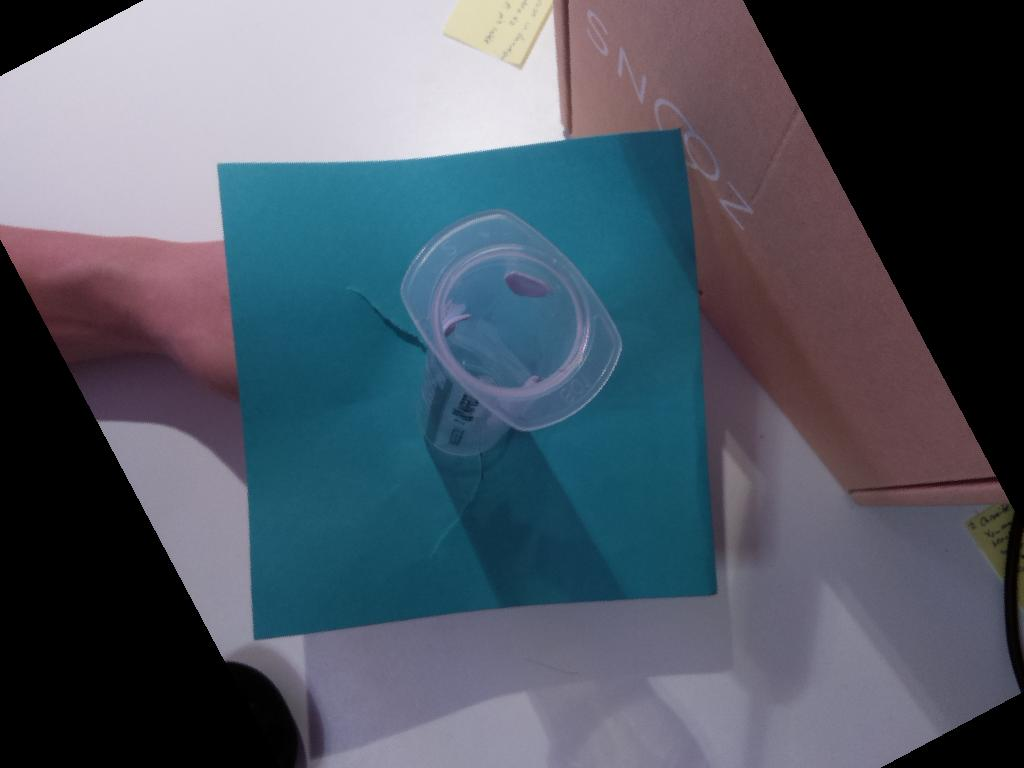dirty: (400, 207, 623, 425)
